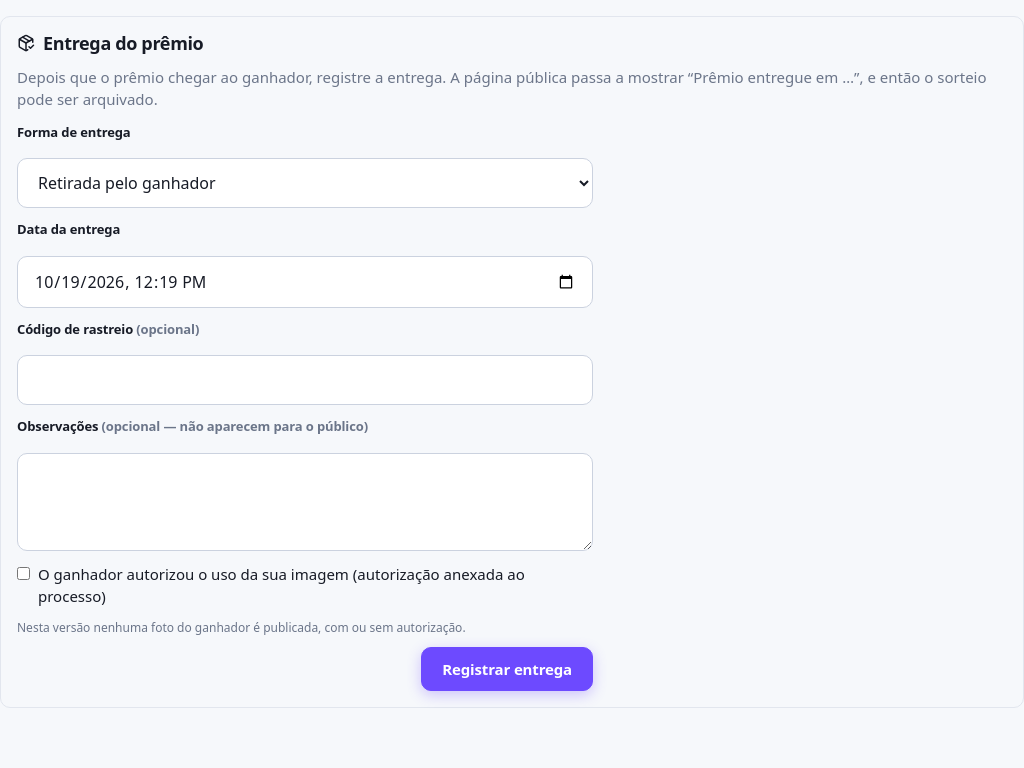
Scenario: registrar a entrega › data em branco e recusada na propria tela
Clear the field labelled "Data da entrega": (305, 282) x1=17 y1=256 x2=593 y2=308
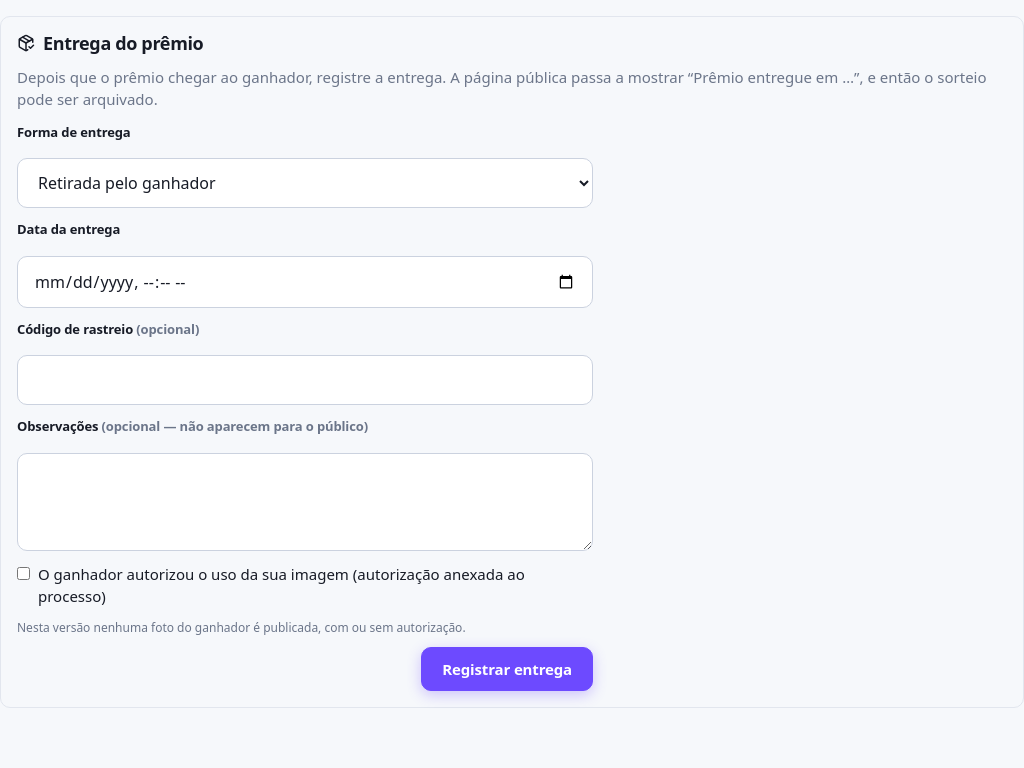
Submit the form named "Registrar entrega", box x1=17 y1=123 x2=593 y2=691
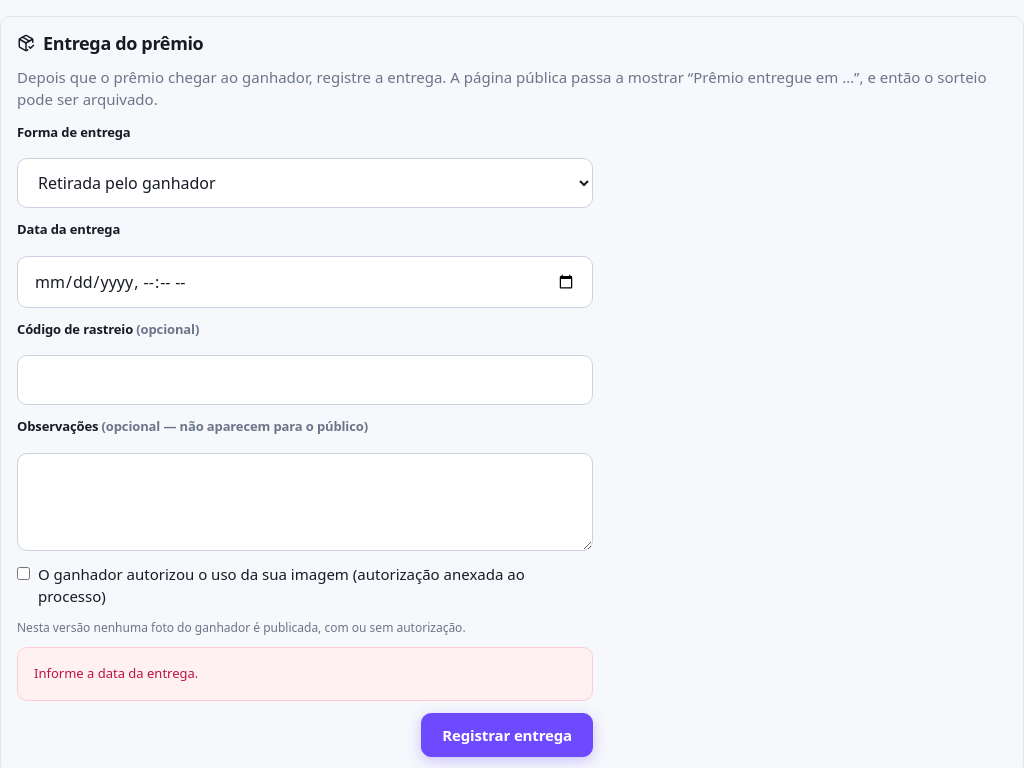
Check: the text "Informe a data da entrega." is shown, box x1=34 y1=664 x2=198 y2=682
